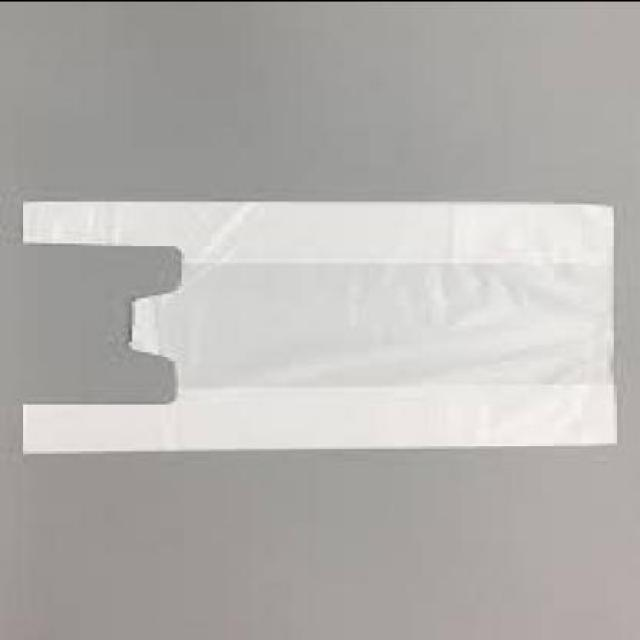PLASTIC: (25, 202, 616, 452)
